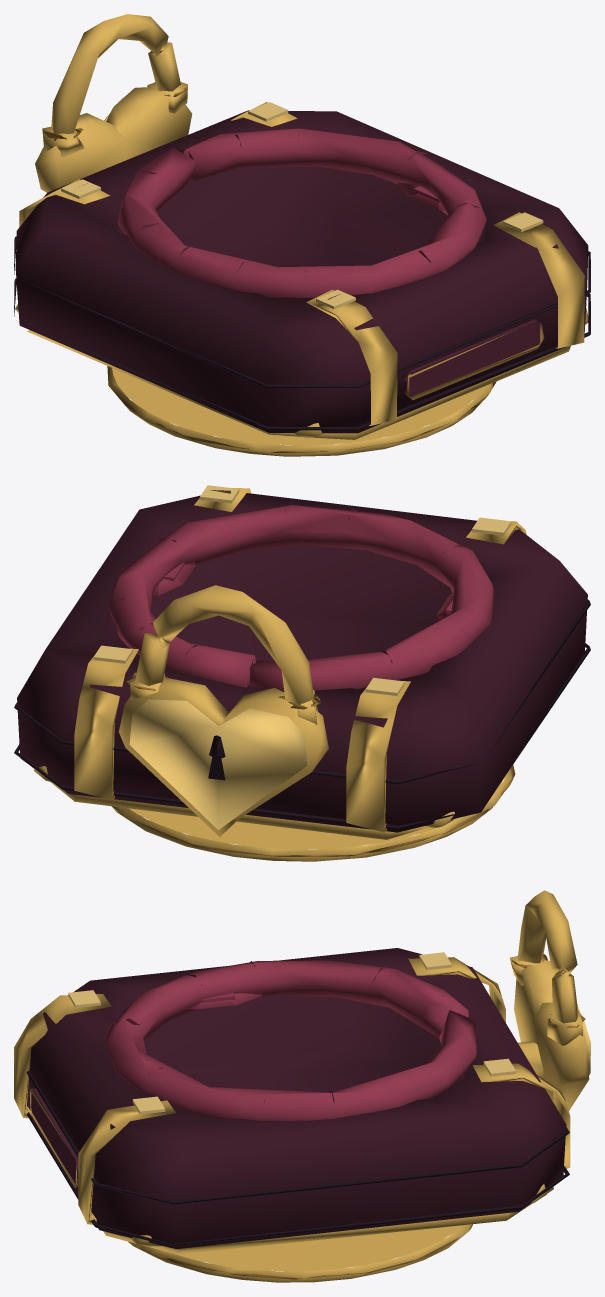
Rendered from kart.body.velvet-lock.lod1.glb.
The picture shows the model from 3 angles, top to bottom: view 1: azimuth 30°, elevation 25°; view 2: azimuth 150°, elevation 25°; view 3: azimuth 270°, elevation 25°; orthographic projection. The views are drawn at different scales.
Visible parts, largest first — view 1: emi_vehicle_velvet-lock; view 2: emi_vehicle_velvet-lock; view 3: emi_vehicle_velvet-lock.
Boxes of the visible parts, bbox=[...] form: emi_vehicle_velvet-lock: bbox=[14, 14, 590, 456]; emi_vehicle_velvet-lock: bbox=[14, 485, 590, 861]; emi_vehicle_velvet-lock: bbox=[14, 890, 590, 1282].
Size of the model in its own units: 0.4319 by 0.2533 by 0.4756.
